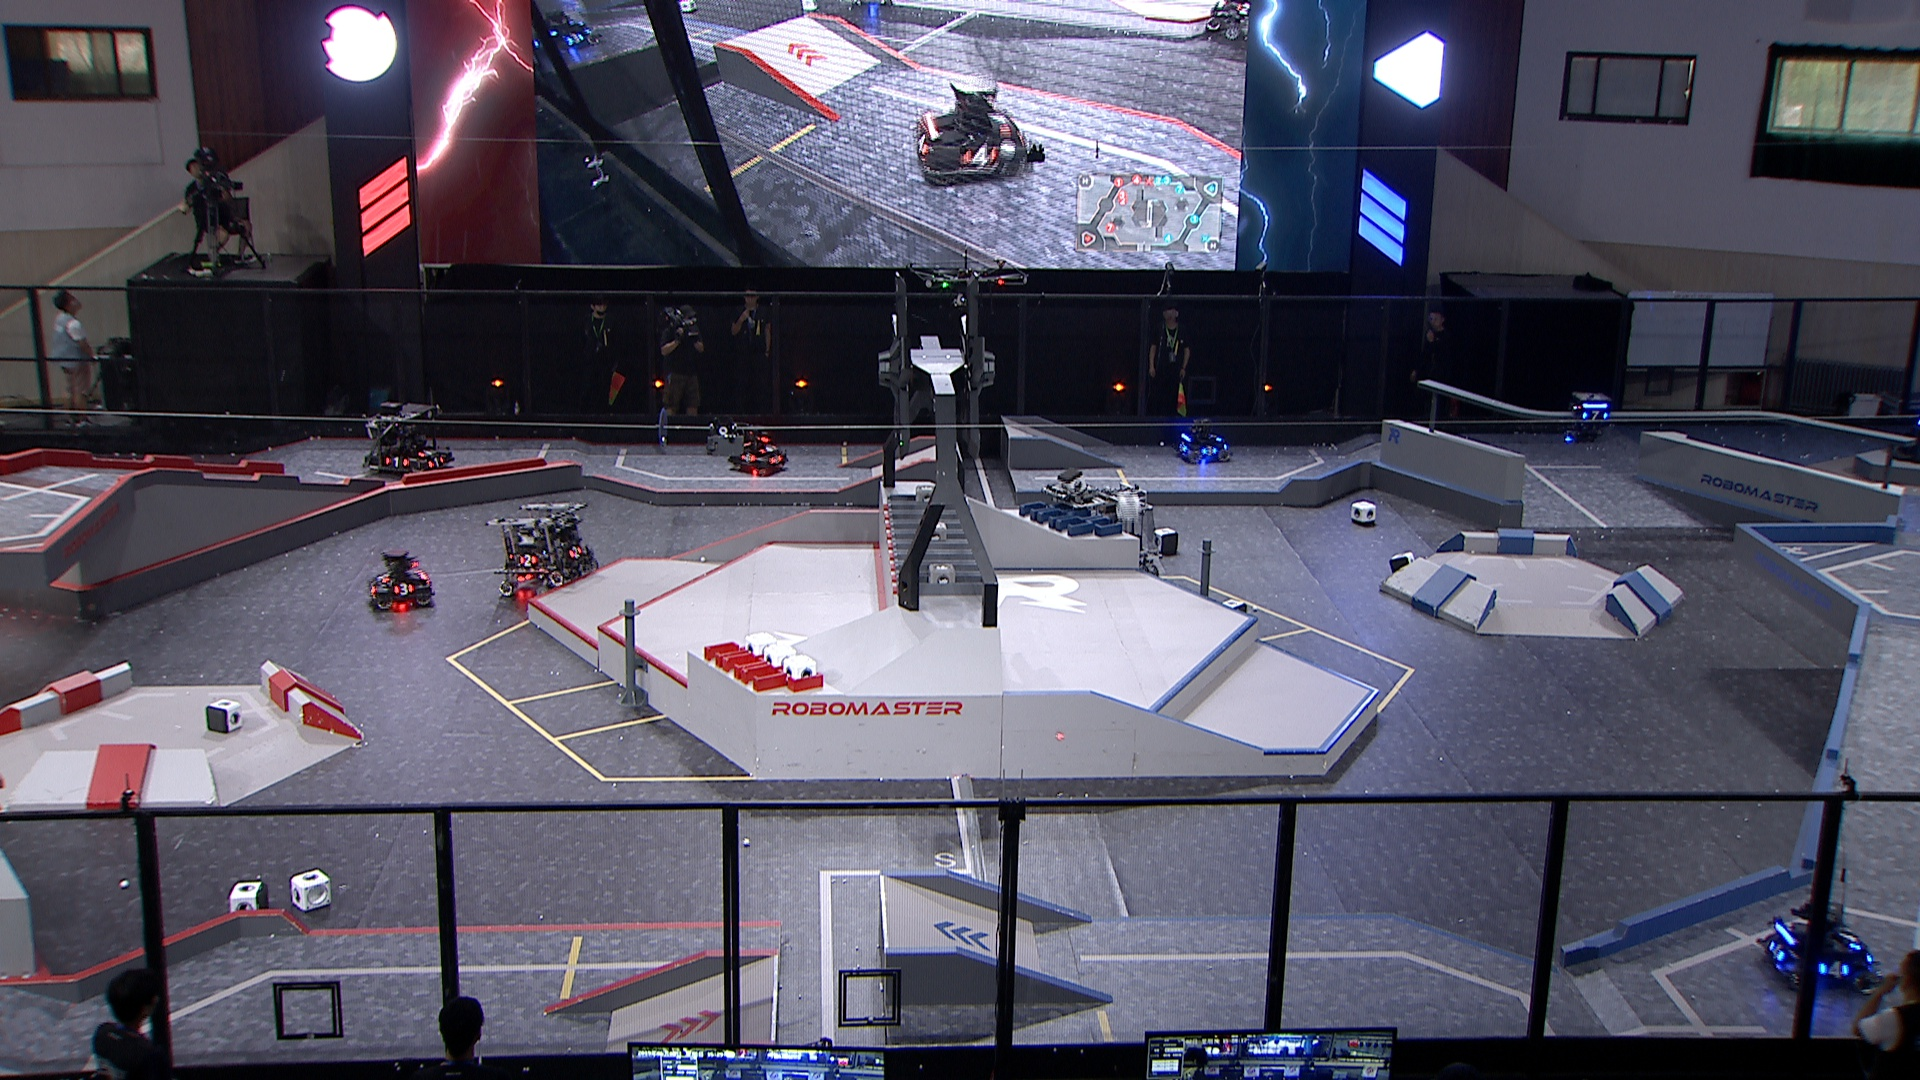armor: (1815, 956, 1849, 984), (1836, 924, 1863, 955), (1764, 935, 1789, 968), (392, 579, 418, 597), (382, 454, 409, 471), (1581, 407, 1610, 422), (1197, 442, 1220, 460), (517, 551, 538, 570), (564, 542, 585, 560), (427, 452, 448, 471), (414, 444, 438, 460), (376, 566, 394, 584), (363, 580, 378, 597), (760, 442, 778, 456), (766, 452, 785, 465), (737, 451, 756, 463), (1178, 436, 1189, 455)
car: (1759, 897, 1894, 1000), (483, 498, 608, 603), (1050, 483, 1160, 591), (356, 400, 458, 477), (363, 550, 436, 612), (728, 427, 790, 477), (1171, 417, 1234, 463)
ignore: (910, 76, 1044, 187), (527, 3, 599, 55)
watcher: (1561, 390, 1614, 446)
